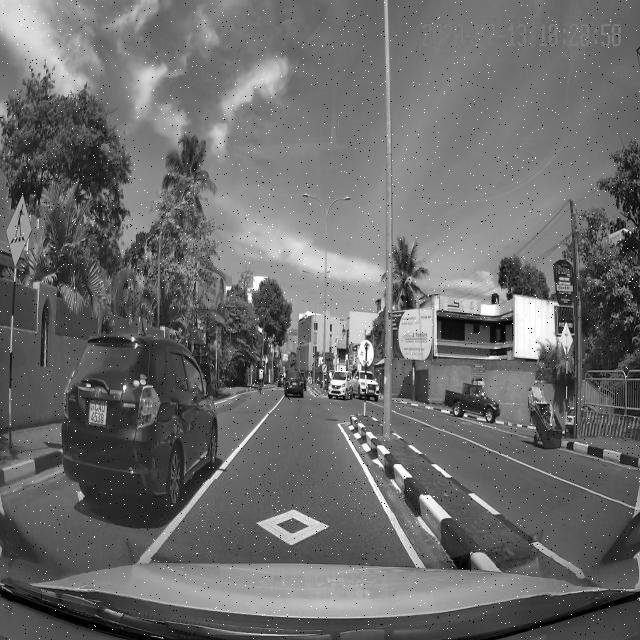diamond: (141, 479, 423, 559)
